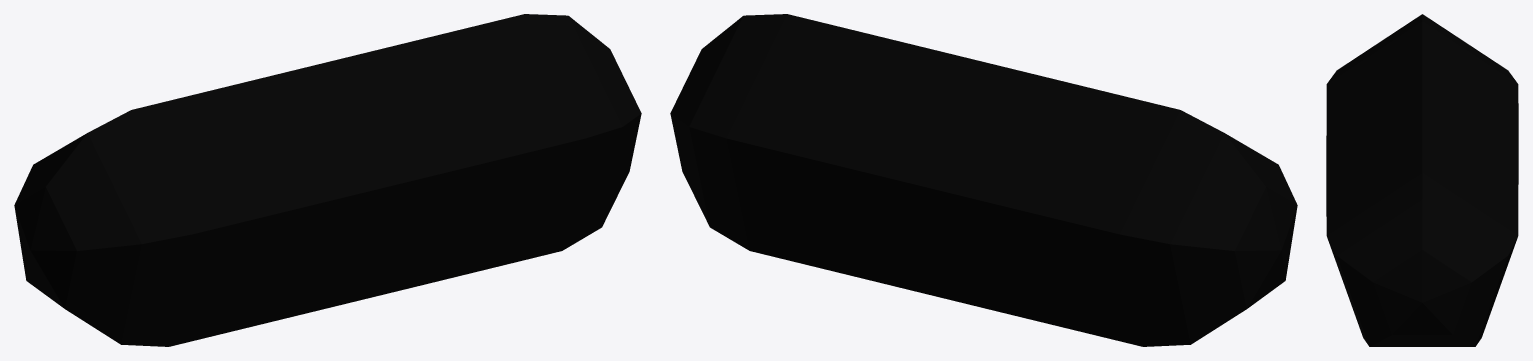
Rendered from cyber_SM_Prop_Pills_05.gltf.
3 views of the same model, side by side, from view 1: azimuth 30°, elevation 25°; view 2: azimuth 150°, elevation 25°; view 3: azimuth 270°, elevation 25° (orthographic). The views are drawn at different scales.
Parts seen in each view (by area): view 1: SM_Prop_Pills_05; view 2: SM_Prop_Pills_05; view 3: SM_Prop_Pills_05.
Boxes of the visible parts, x1,y1,x2,y2 form: SM_Prop_Pills_05: (14, 14, 641, 346); SM_Prop_Pills_05: (670, 14, 1297, 346); SM_Prop_Pills_05: (1326, 14, 1518, 346).
Bounding box in the file's own units: 0.0614 × 0.0206 × 0.0218.
Materials: 1 (1 with a texture image).
